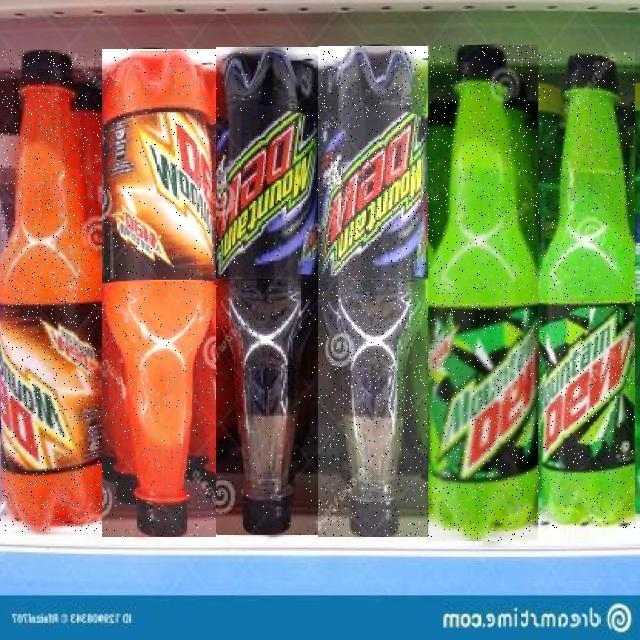Drinks: (102, 49, 216, 537), (427, 45, 538, 541), (318, 46, 428, 537), (216, 47, 318, 535), (2, 50, 102, 532), (536, 52, 635, 528)
